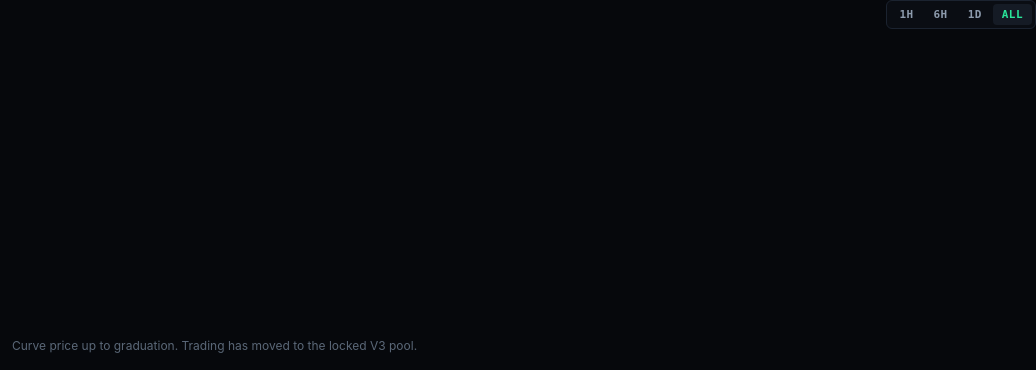
Scenario: CurveChart range selector › keeps the picker on screen when a range turns up empty, so there is a way back
The width and height of the screenshot is (1036, 370).
Note: Graduated: a closed curve cannot be carried forward to now, so a recent window is truly empty.
Click the button titled "Last hour" at (906, 14), box [890,4,922,25]
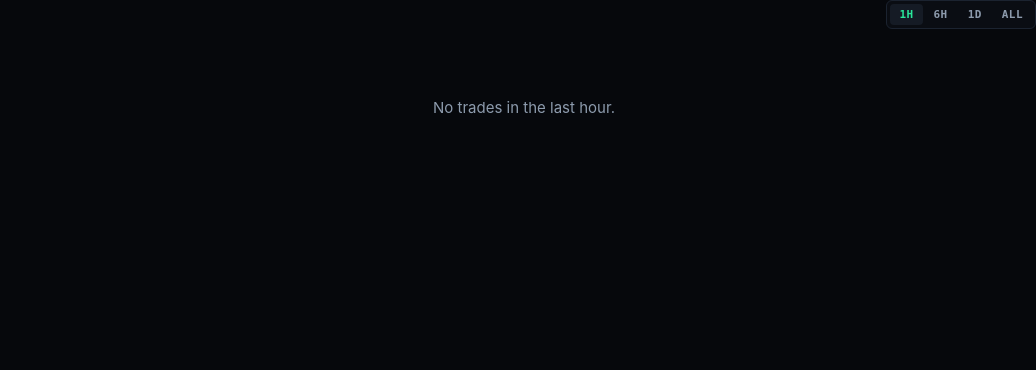
Expected: the button titled "Every trade held" is shown, [993,4,1032,25]
Expected: the text "No trades in the last hour." is shown, [433,98,615,117]
